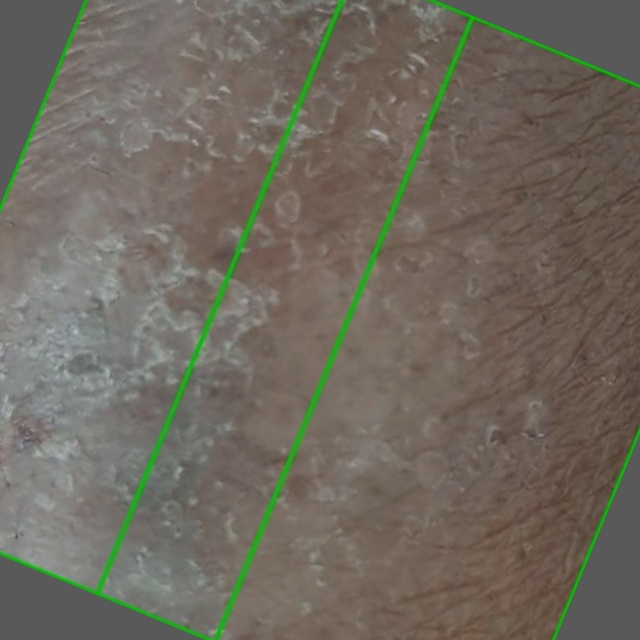Eczema: (96, 0, 639, 639), (0, 0, 472, 639)
